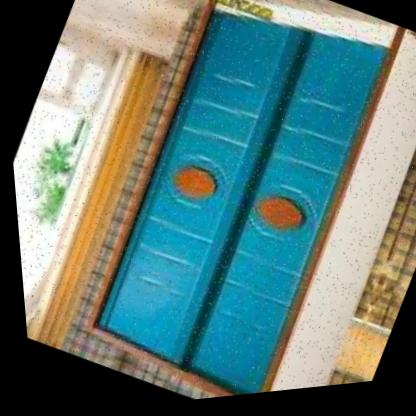Closet: (34, 0, 416, 413)
